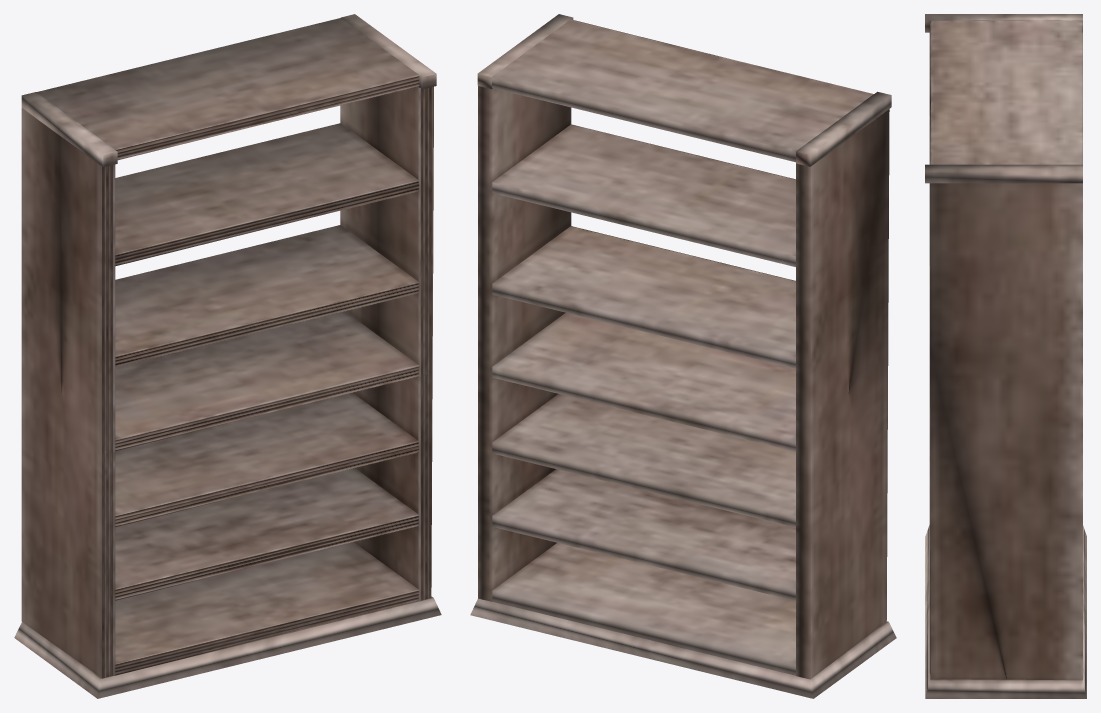
File: wooden_bookshelf_worn.glb
3 renders of one model, left to right at view 1: azimuth 30°, elevation 25°; view 2: azimuth 150°, elevation 25°; view 3: azimuth 270°, elevation 25°, orthographic. The views are drawn at different scales.
Parts seen in each view (by area): view 1: wooden_bookshelf_worn; view 2: wooden_bookshelf_worn; view 3: wooden_bookshelf_worn.
Boxes of the visible parts, x1,y1,x2,y2 form: wooden_bookshelf_worn: (14,14,441,698); wooden_bookshelf_worn: (470,14,896,698); wooden_bookshelf_worn: (925,14,1086,698).
Size of the model in its own units: 1.37 by 2.06 by 0.5766.
Materials: 1 (1 with a texture image).
